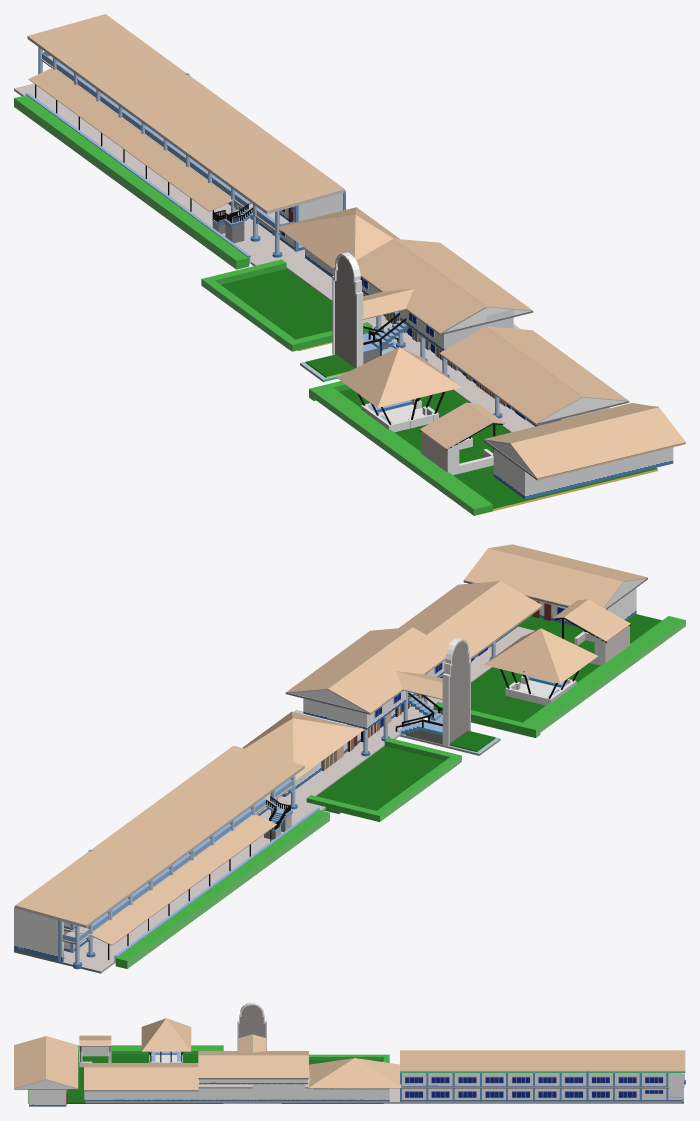
Rendered from COD (1).glb.
The picture shows the model from 3 angles, top to bottom: view 1: azimuth 30°, elevation 25°; view 2: azimuth 150°, elevation 25°; view 3: azimuth 270°, elevation 25°; orthographic projection. The views are drawn at different scales.
Visible parts, largest first — view 1: cube.1698; view 2: cube.1698; view 3: cube.1698.
Part boxes in pixels (x1,y1,x2,y2): cube.1698: [14, 14, 685, 515]; cube.1698: [14, 544, 685, 973]; cube.1698: [14, 1002, 685, 1106].
Size of the model in its own units: 6.01 by 3.1 by 28.83.
22 materials, 22 textured.
